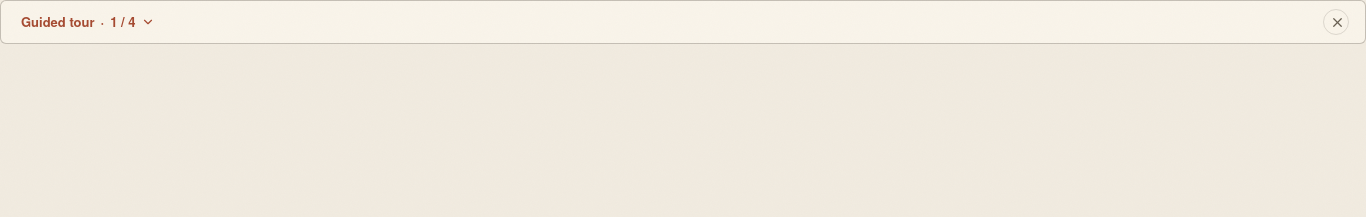
Test: first-run tour › shows the shorter volunteer tour
Click the button "Guided tour · 1 / 4": coordinates (88, 22) [17,5,160,39]
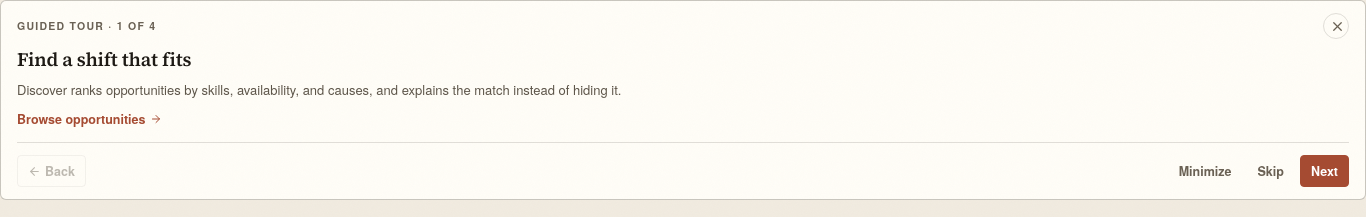
expect the heading "Find a shift that fits" is shown: met, box [17,46,191,72]
expect the text "Guided tour · 1 of 4" is shown: met, box [17,18,156,34]
